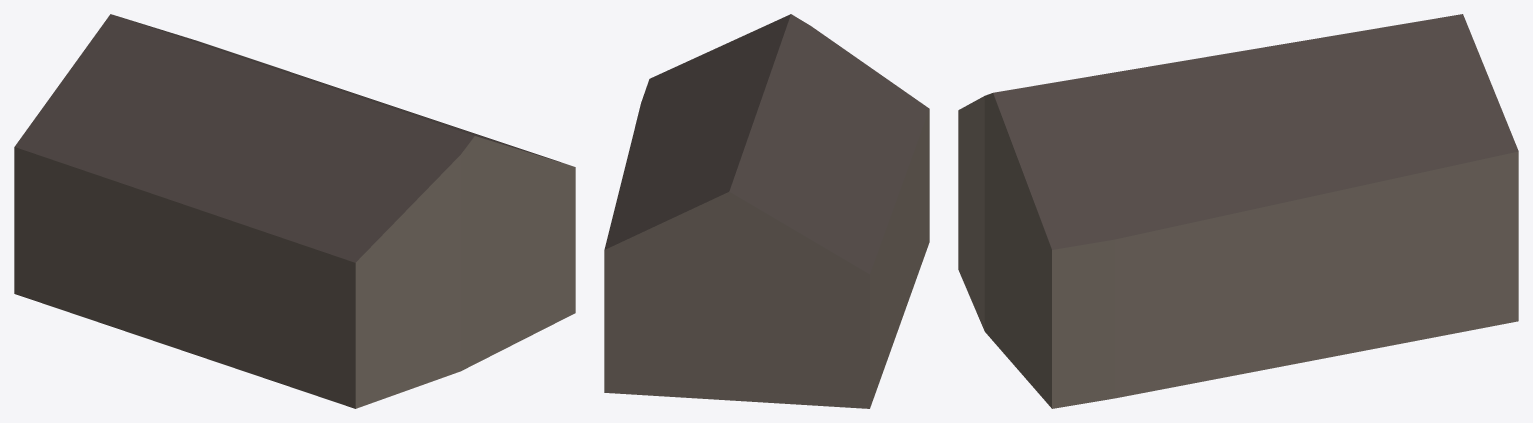
The picture shows the model from 3 angles, left to right: view 1: azimuth 30°, elevation 25°; view 2: azimuth 150°, elevation 25°; view 3: azimuth 270°, elevation 25°; orthographic projection. The views are drawn at different scales.
Parts seen in each view (by area): view 1: HP-w1512468499; view 2: HP-w1512468499; view 3: HP-w1512468499.
Boxes of the visible parts, bbox=[...] form: HP-w1512468499: bbox=[14, 14, 575, 408]; HP-w1512468499: bbox=[604, 14, 929, 408]; HP-w1512468499: bbox=[958, 14, 1518, 408].
Size of the model in its own units: 17.24 by 9.38 by 19.18.
